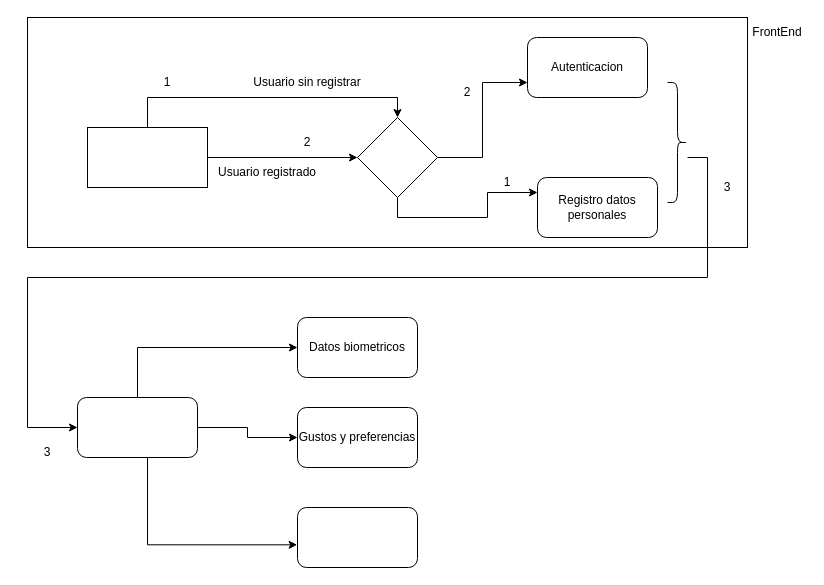
Some shapes in this 824 by 585 pixel diagram are drawn without their labels. Each missing label, with the centre of its shape:
"Asesoria" belongs at (x=137, y=427).
"Pagina estatica landpage" belongs at (x=147, y=157).
